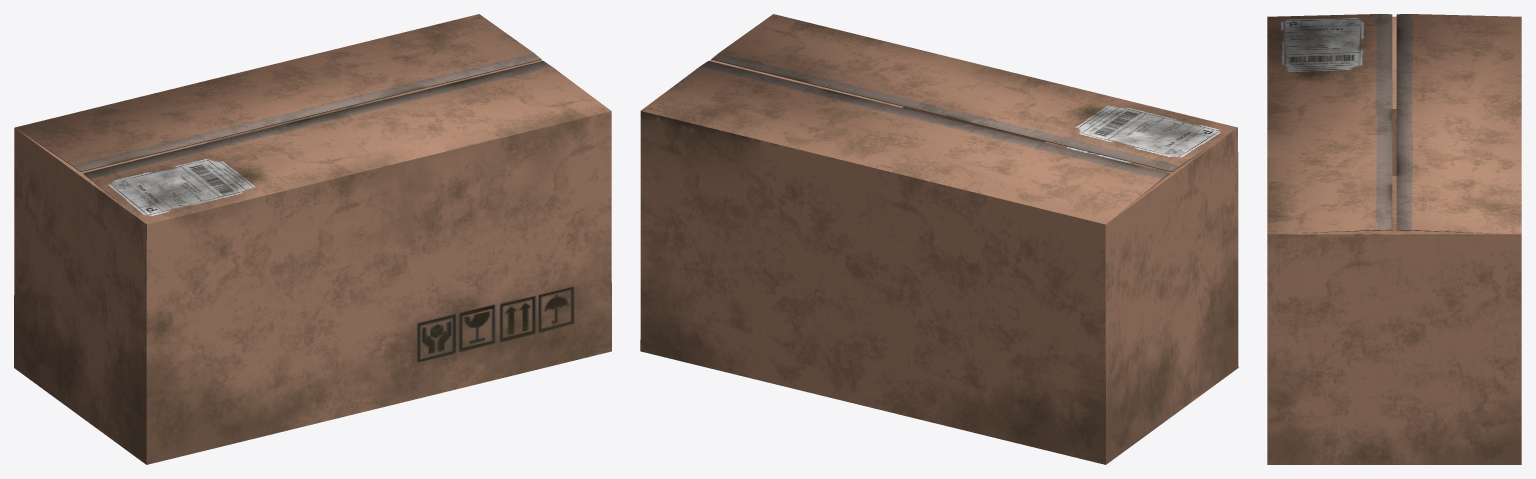
Rendered from cardboard_box (1).glb.
The picture shows the model from 3 angles, left to right: view 1: azimuth 30°, elevation 25°; view 2: azimuth 150°, elevation 25°; view 3: azimuth 270°, elevation 25°; orthographic projection. The views are drawn at different scales.
Parts seen in each view (by area): view 1: cardboardbox; view 2: cardboardbox; view 3: cardboardbox.
Boxes of the visible parts, box(x1,y1,x2,y2) form: cardboardbox: box(14, 14, 611, 464); cardboardbox: box(640, 14, 1238, 464); cardboardbox: box(1267, 14, 1521, 464).
Size of the model in its own units: 0.75 by 0.3752 by 0.37.
Materials: 1 (1 with a texture image).
